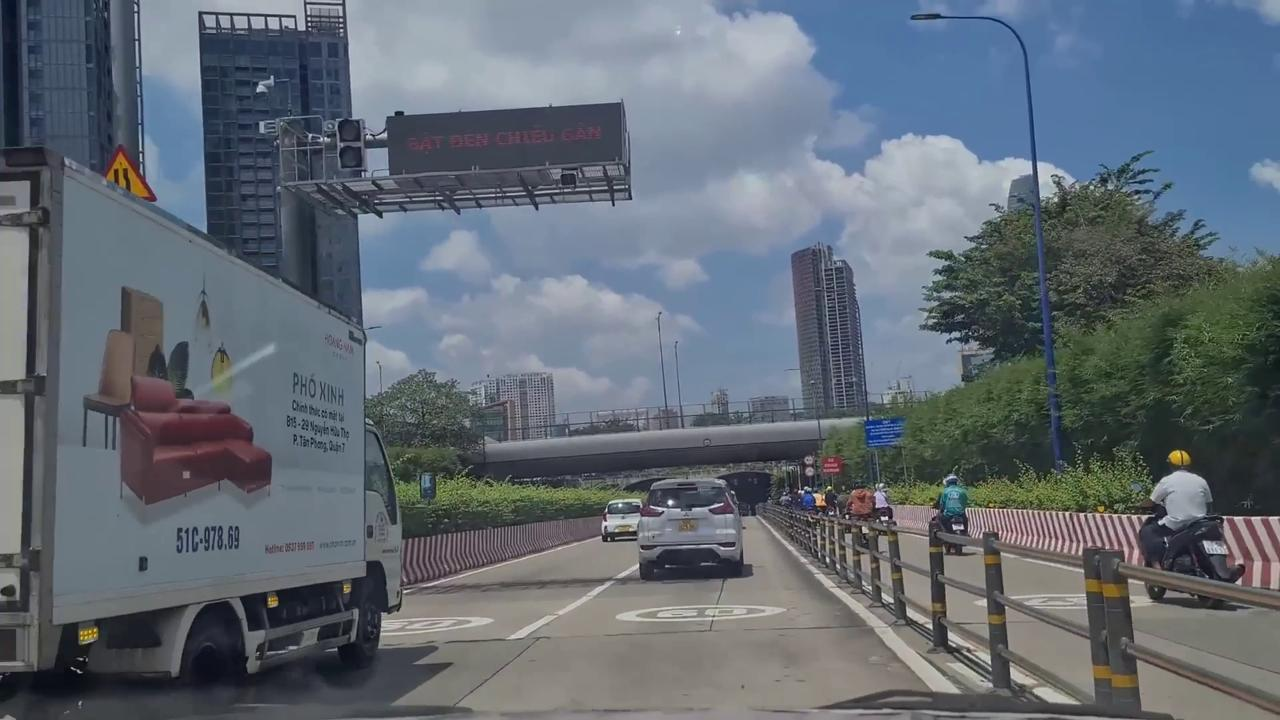Đuờng hẹp: (93, 144, 157, 204)
